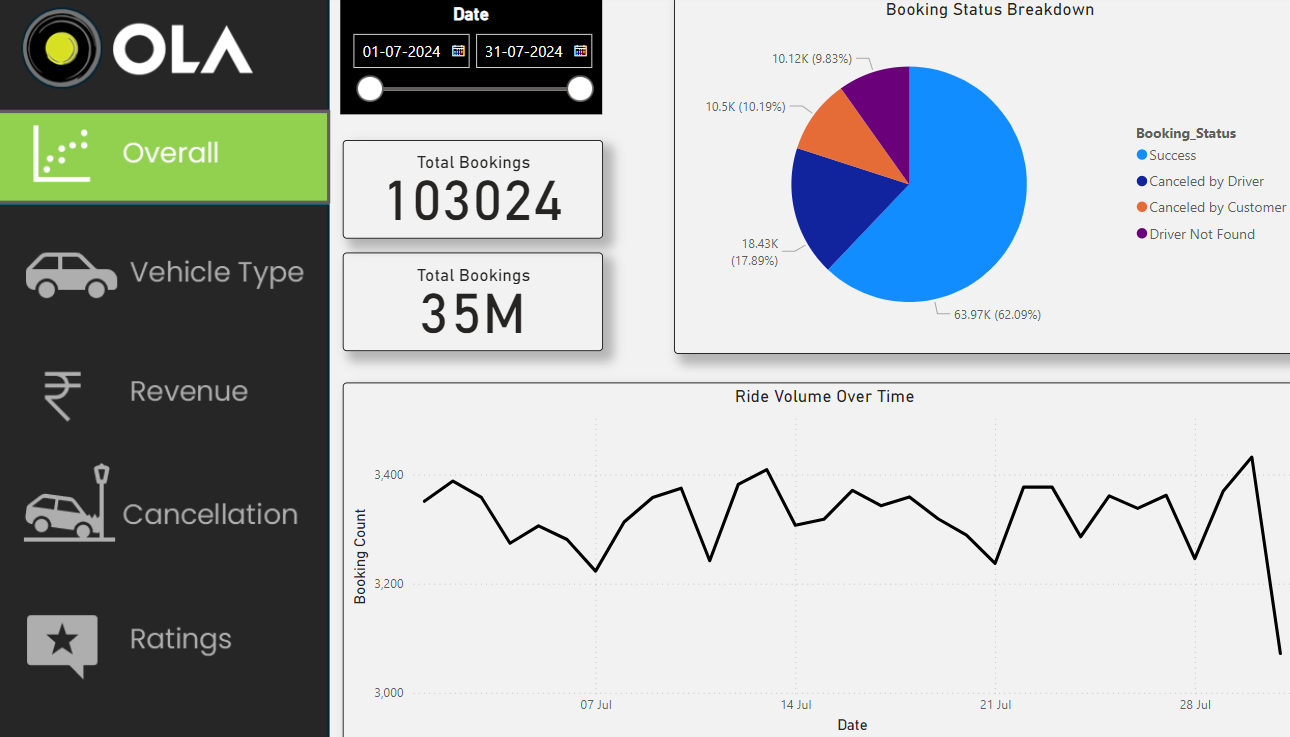

Layout of this report page (visuals, bound fields, positions):
{"tool":"powerbi","page":{"name":"Overall","canvas":[1280,720],"ordinal":0},"visuals":[{"type":"actionButton","box":[0,111,324.5,90.5],"z":0},{"type":"lineChart","title":"Ride Volume Over Time","fields":{"Y":["CountNonNull(July.Booking_ID)"],"Category":["July.Date"]},"box":[336.6,374,929,346.2],"z":1000},{"type":"pieChart","title":"Booking Status Breakdown","fields":{"Category":["July.Booking_Status"],"Y":["CountNonNull(July.Booking_Status)"]},"box":[656.5,0,608.8,346.3],"z":2000},{"type":"slicer","title":"Date","fields":{"Values":["July.Date"]},"box":[334.7,0,252.5,115.4],"z":3000},{"type":"card","title":"Total Bookings","fields":{"Values":["CountNonNull(July.Booking_ID)"]},"box":[336.2,139.9,251,95.2],"z":4000},{"type":"card","title":"Total Bookings","fields":{"Values":["Sum(July.Booking_Value)"]},"box":[336.2,248.2,251,95.2],"z":5000}]}

Visuals, with their boxes in screenshot pixels (x1, y1, x2, y2), scaled from the page's 1280x720 canvas onto the 1290x737 screenshot:
actionButton: box(0, 114, 327, 206)
"Ride Volume Over Time" lineChart: box(339, 383, 1275, 736)
"Booking Status Breakdown" pieChart: box(662, 0, 1275, 354)
"Date" slicer: box(337, 0, 592, 118)
"Total Bookings" card: box(339, 143, 592, 241)
"Total Bookings" card: box(339, 254, 592, 352)
